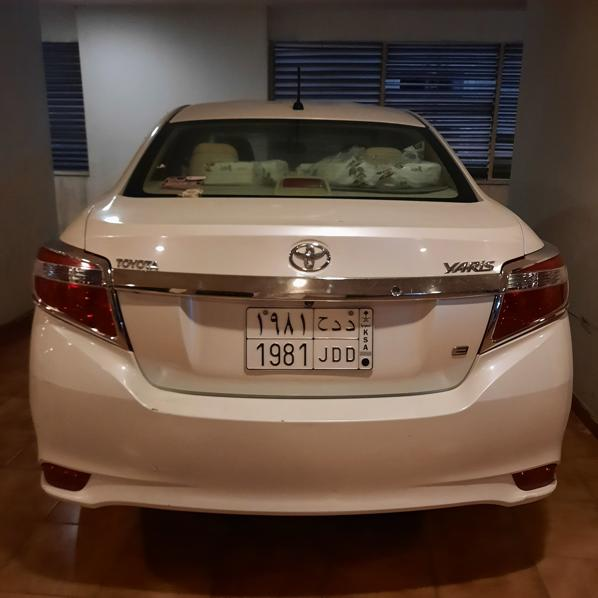numberplate: (246, 308, 373, 370)
